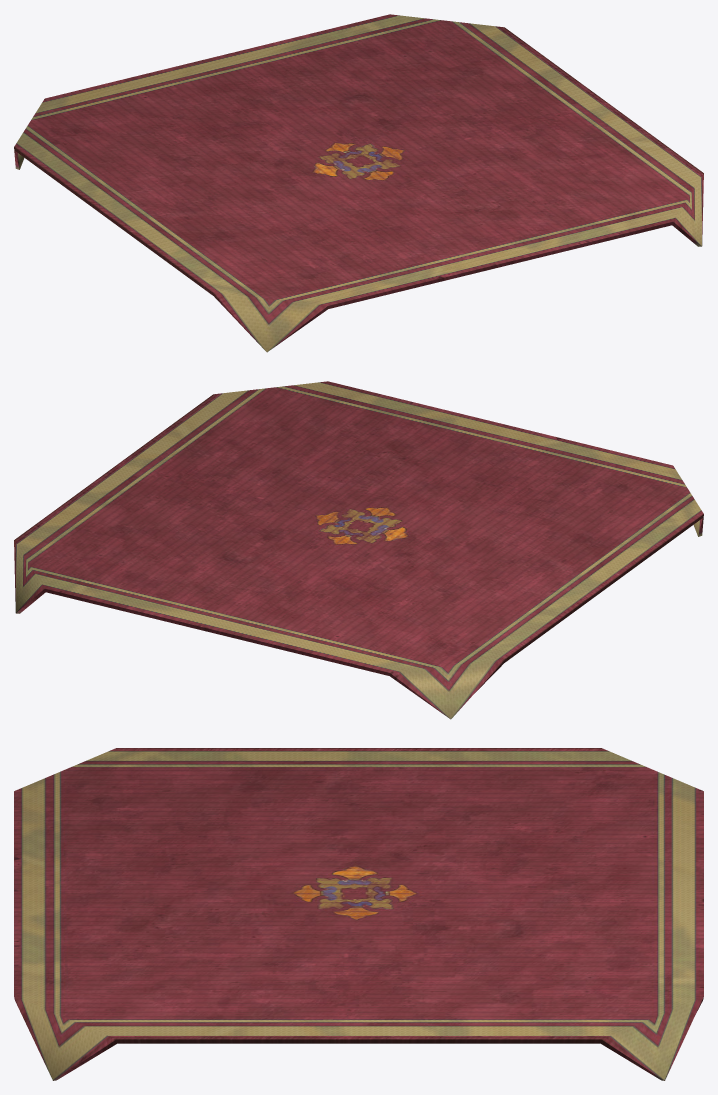
The model's file is table-cloth01.glb.
The picture shows the model from 3 angles, top to bottom: view 1: azimuth 30°, elevation 25°; view 2: azimuth 150°, elevation 25°; view 3: azimuth 270°, elevation 25°; orthographic projection. The views are drawn at different scales.
Parts seen in each view (by area): view 1: table-cloth01; view 2: table-cloth01; view 3: table-cloth01.
Part boxes in pixels (x1=…): table-cloth01: x1=14, y1=14, x2=703, y2=352; table-cloth01: x1=14, y1=381, x2=703, y2=719; table-cloth01: x1=14, y1=748, x2=703, y2=1080.
Bounding box in the file's own units: 1.34 × 0.1256 × 1.34.
Materials: 1 (1 with a texture image).
